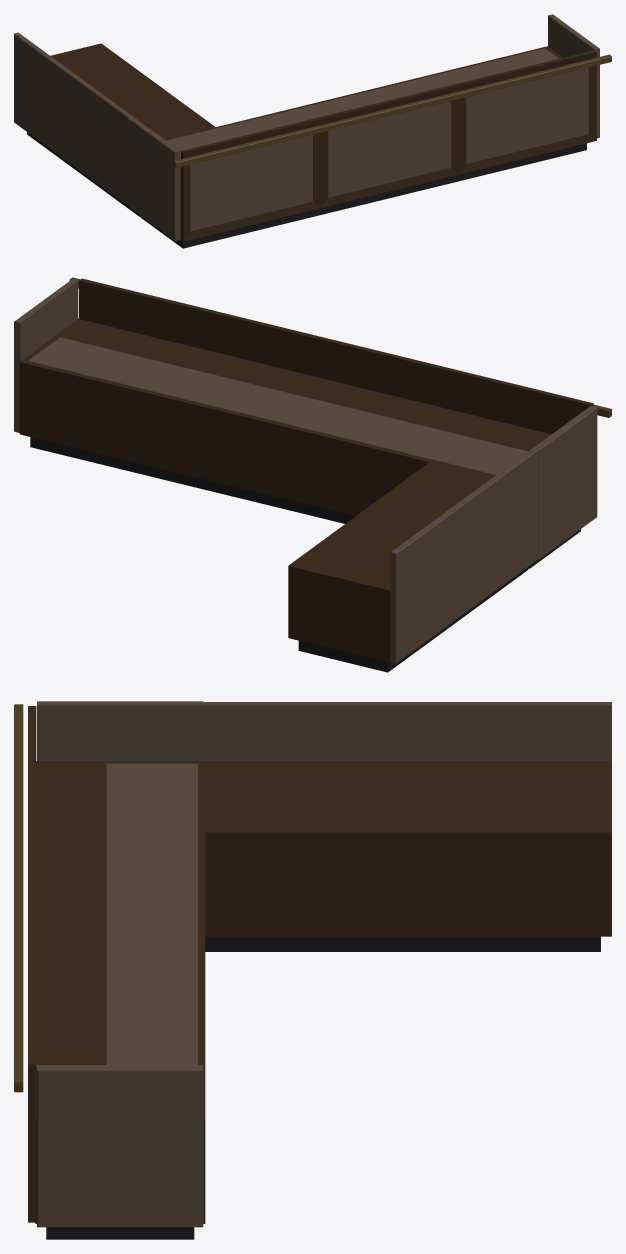
File: lp_lobby_counter.glb
The picture shows the model from 3 angles, top to bottom: view 1: azimuth 30°, elevation 25°; view 2: azimuth 150°, elevation 25°; view 3: azimuth 270°, elevation 25°; orthographic projection. The views are drawn at different scales.
Visible parts, largest first — view 1: lp_lobby_counter; view 2: lp_lobby_counter; view 3: lp_lobby_counter.
Boxes of the visible parts, x1=… form: lp_lobby_counter: x1=14, y1=14, x2=611, y2=248; lp_lobby_counter: x1=14, y1=277, x2=611, y2=672; lp_lobby_counter: x1=14, y1=701, x2=611, y2=1239.
Bounding box in the file's own units: 4.84 × 1.07 × 3.24.
1 material, 1 textured.
